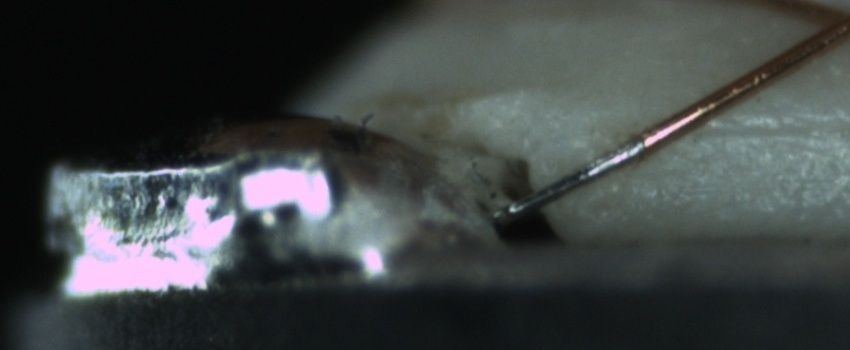CL: (809, 1, 850, 44)
DL: (684, 100, 846, 160)
TS: (500, 136, 646, 218)
